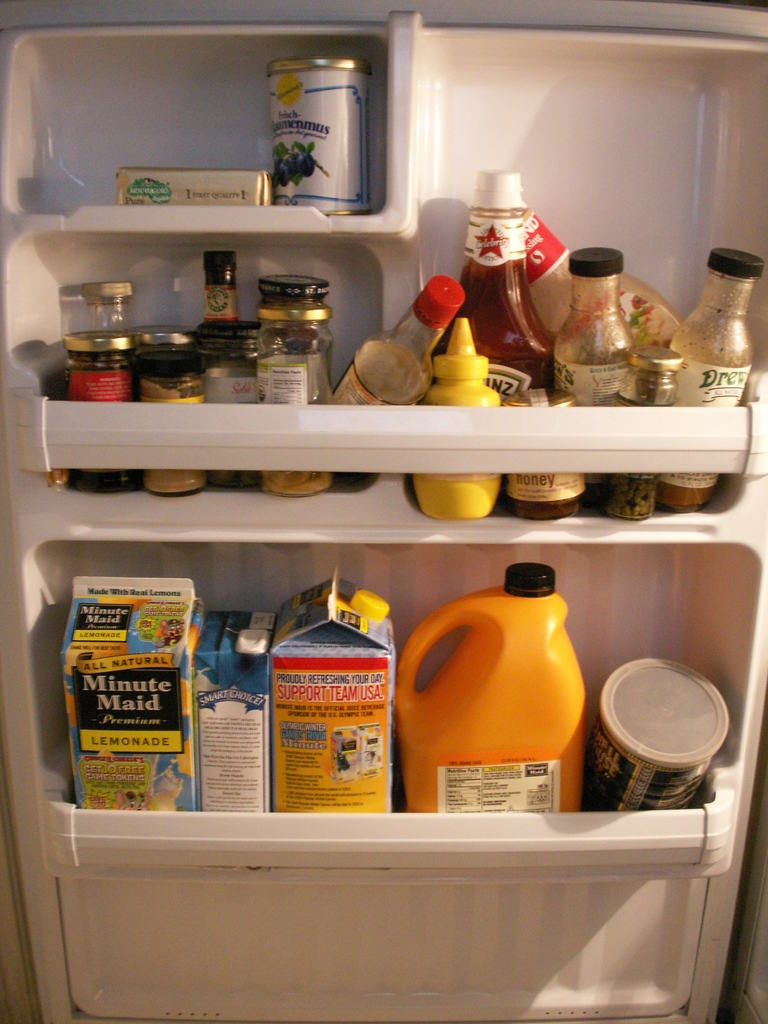refrigerator door: (4, 70, 719, 1024)
